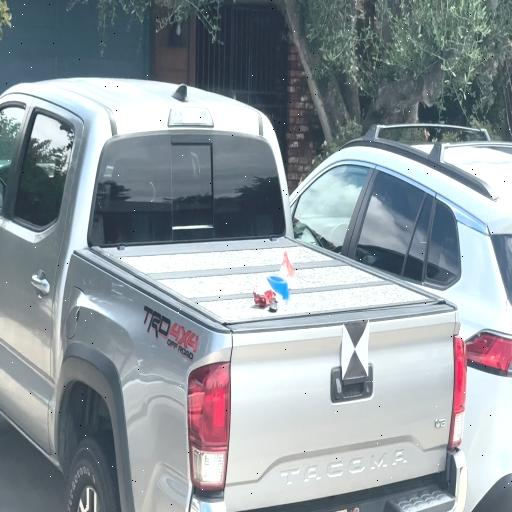target: (342, 320, 369, 379)
